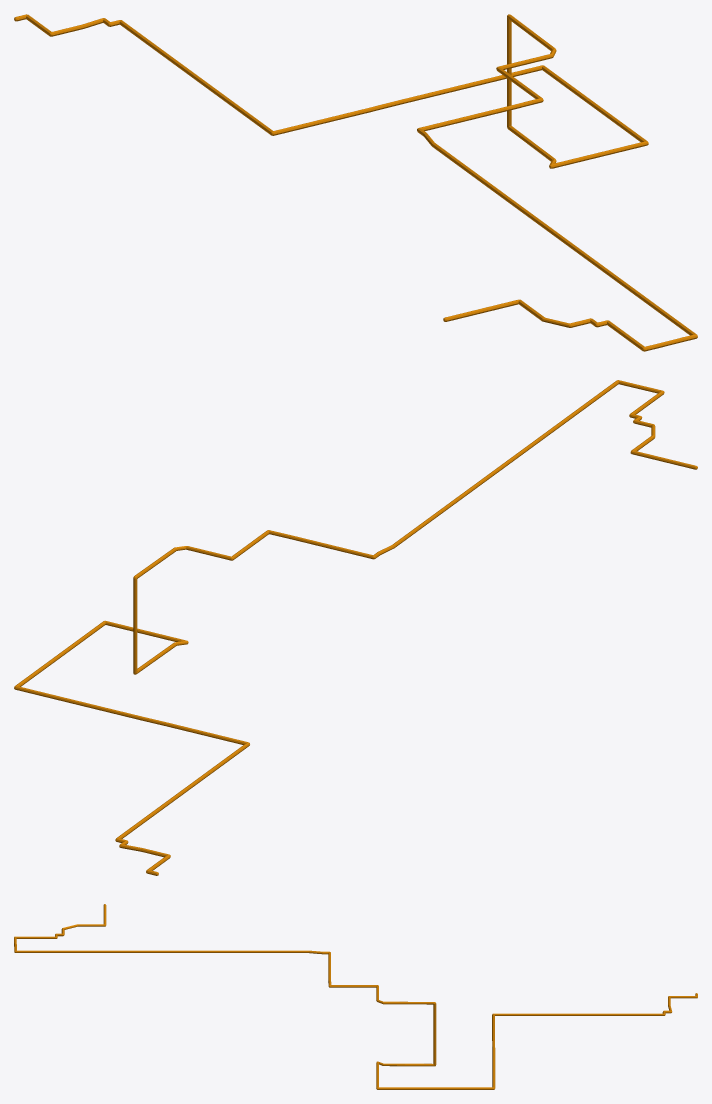
3 views of the same model, one above another, from view 1: azimuth 30°, elevation 25°; view 2: azimuth 150°, elevation 25°; view 3: azimuth 270°, elevation 25° (orthographic). The views are drawn at different scales.
Bounding box in the file's own units: 2125 × 520 × 5010.
